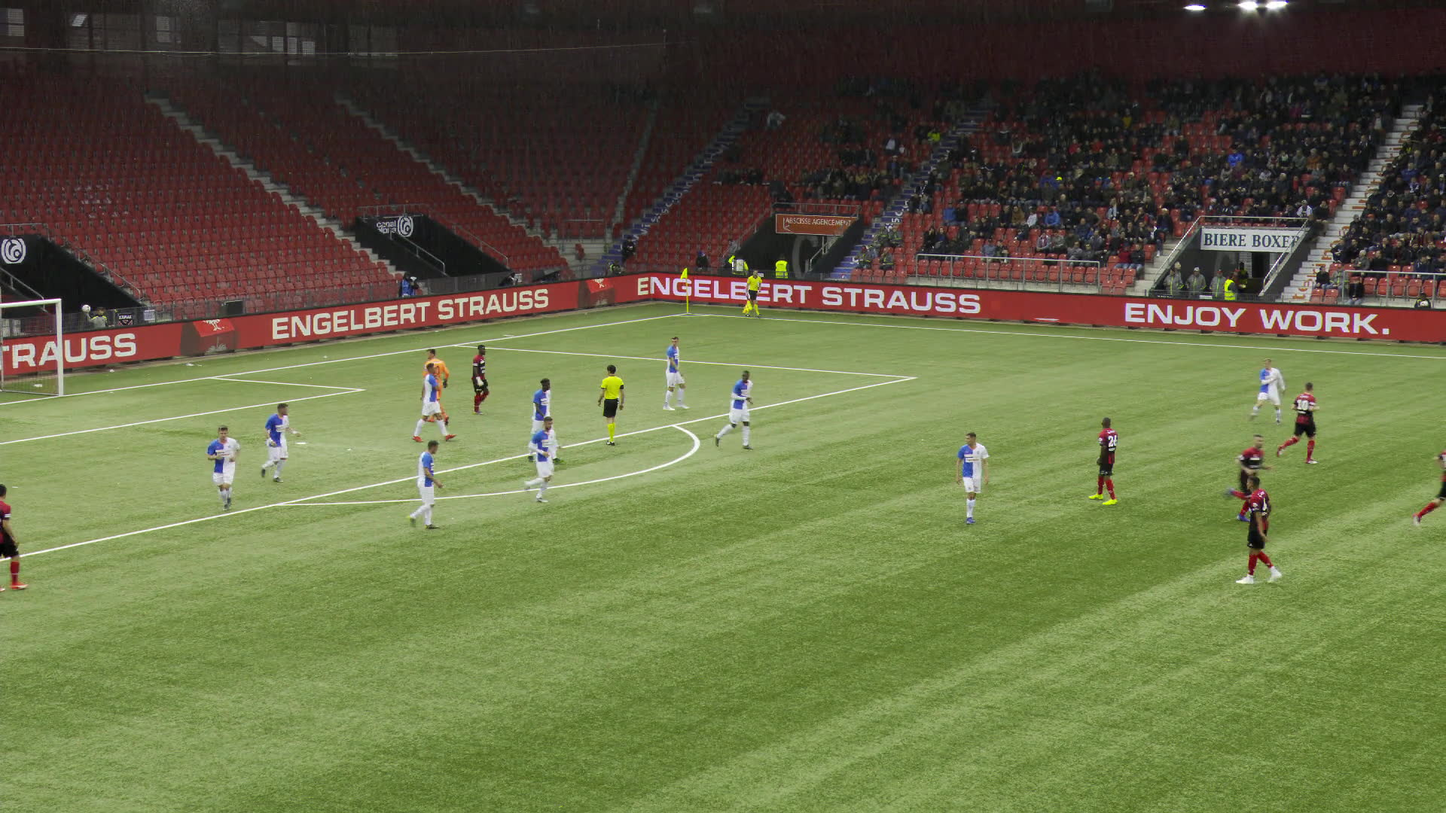player: (1233, 473, 1279, 585), (1210, 431, 1265, 522), (402, 439, 444, 531), (1273, 379, 1318, 464), (515, 415, 556, 504), (952, 431, 990, 523), (256, 400, 298, 483), (1408, 440, 1445, 531), (712, 369, 753, 450), (410, 361, 449, 443), (206, 422, 241, 512), (526, 375, 560, 463), (1088, 416, 1119, 505), (1243, 357, 1282, 426), (0, 481, 23, 592), (659, 335, 689, 410), (423, 346, 450, 426), (465, 343, 491, 415)
referee: (596, 363, 624, 446), (743, 267, 763, 317)
